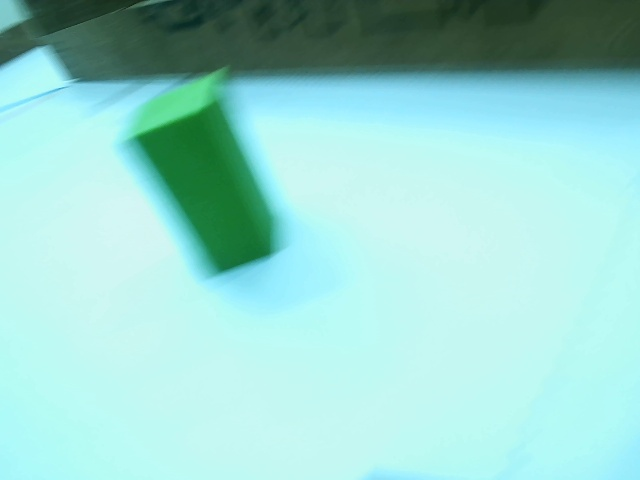green: (125, 96, 291, 276)
